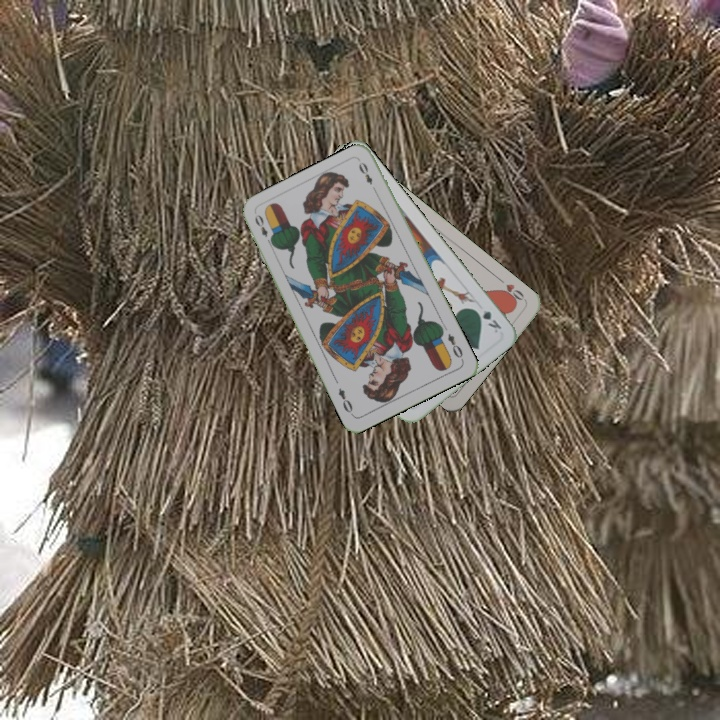EO: (251, 210, 276, 248), (443, 330, 466, 363)
GK: (470, 305, 504, 335)
HO: (494, 274, 528, 306)
